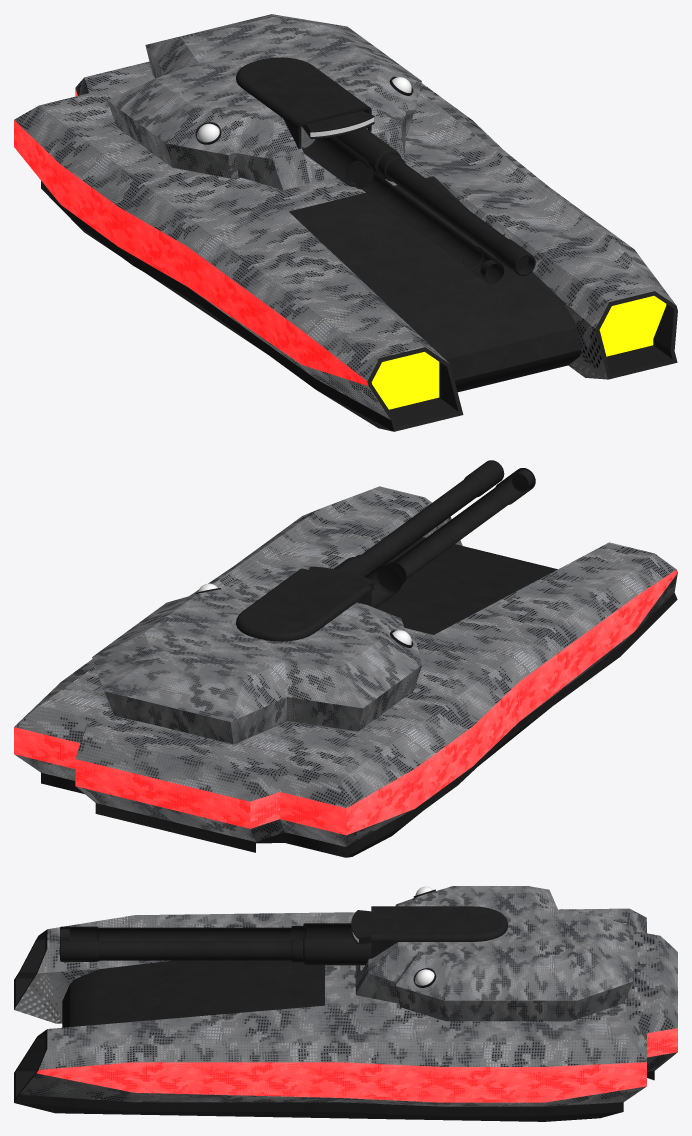
Rendered from blinde_boreale.glb.
3 renders of one model, top to bottom at view 1: azimuth 30°, elevation 25°; view 2: azimuth 150°, elevation 25°; view 3: azimuth 270°, elevation 25°, orthographic. The views are drawn at different scales.
Visible parts, largest first — view 1: Body, Turret, Hood, Stripe, Barrel, Shield, Lenses, Schweller, Light_Shelves, Bezel, Optics; view 2: Body, Turret, Stripe, Barrel, Hood, Schweller, Shield; view 3: Body, Turret, Stripe, Hood, Barrel, Schweller, Shield, Light_Shelves, Bezel, Optics.
Part boxes in pixels (<box>): Body: <box>14,61,675,419</box>; Turret: <box>107,14,421,190</box>; Hood: <box>289,176,580,392</box>; Stripe: <box>14,88,368,385</box>; Barrel: <box>302,128,535,283</box>; Shield: <box>195,57,413,148</box>; Lenses: <box>371,296,666,409</box>; Schweller: <box>41,181,393,431</box>; Light_Shelves: <box>389,304,673,426</box>; Bezel: <box>367,291,677,431</box>; Optics: <box>197,77,411,142</box>; Body: <box>14,486,677,846</box>; Turret: <box>92,582,421,744</box>; Stripe: <box>14,569,677,835</box>; Barrel: <box>334,460,535,608</box>; Hood: <box>376,537,557,634</box>; Schweller: <box>41,593,677,857</box>; Shield: <box>195,566,413,647</box>; Body: <box>14,908,677,1106</box>; Turret: <box>355,886,633,1021</box>; Stripe: <box>36,1028,677,1102</box>; Hood: <box>62,960,324,1027</box>; Barrel: <box>60,923,371,965</box>; Schweller: <box>14,1071,654,1121</box>; Shield: <box>351,889,507,987</box>; Light_Shelves: <box>16,933,45,1097</box>; Bezel: <box>14,929,47,1102</box>; Optics: <box>352,886,434,985</box>.
Size of the model in its own units: 2.66 by 1.08 by 4.86.
Materials: 6 (3 with a texture image).
